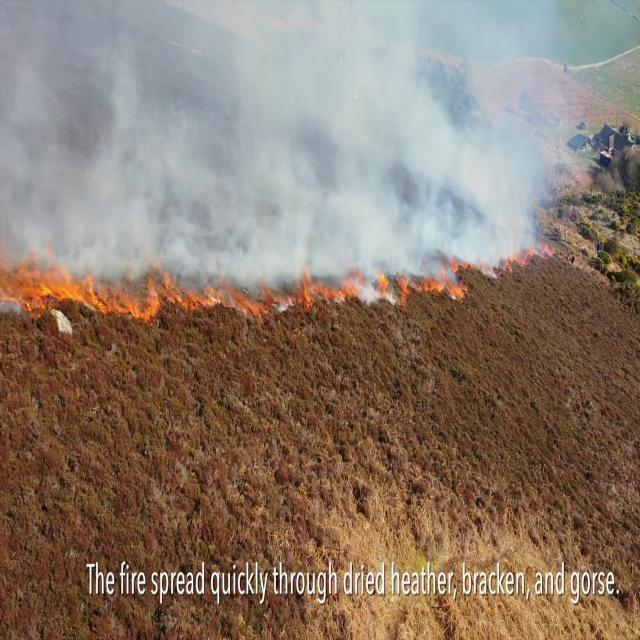Fire: (0, 251, 160, 321), (398, 263, 468, 311), (162, 261, 218, 312), (300, 265, 357, 311), (233, 290, 296, 320)
Smoke: (1, 1, 570, 277)
